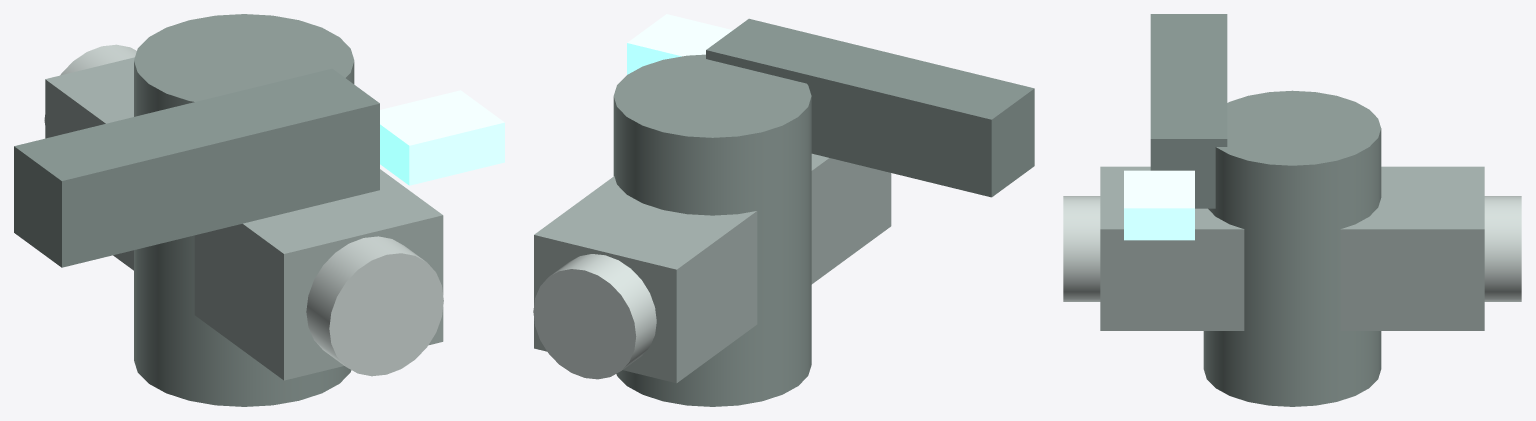
Rendered from front_right_knuckle.glb.
3 renders of one model, left to right at view 1: azimuth 30°, elevation 25°; view 2: azimuth 150°, elevation 25°; view 3: azimuth 270°, elevation 25°, orthographic. The views are drawn at different scales.
Parts seen in each view (by area): view 1: steering_arm, wheel_hub, upright, kingpin, angle_witness; view 2: wheel_hub, upright, steering_arm, kingpin, angle_witness; view 3: wheel_hub, upright, steering_arm, kingpin, angle_witness.
Part boxes in pixels (left/top/right/bottom): steering_arm: left=14, top=68, right=379, bottom=267; wheel_hub: left=134, top=14, right=354, bottom=406; upright: left=45, top=57, right=443, bottom=380; kingpin: left=44, top=44, right=443, bottom=376; angle_witness: left=380, top=90, right=504, bottom=185; wheel_hub: left=613, top=54, right=811, bottom=406; upright: left=534, top=153, right=891, bottom=383; steering_arm: left=706, top=18, right=1034, bottom=197; kingpin: left=533, top=254, right=656, bottom=379; angle_witness: left=627, top=14, right=732, bottom=74; wheel_hub: left=1203, top=90, right=1381, bottom=406; upright: left=1100, top=166, right=1484, bottom=330; steering_arm: left=1150, top=14, right=1227, bottom=208; kingpin: left=1063, top=196, right=1521, bottom=301; angle_witness: left=1124, top=170, right=1194, bottom=240.
Size of the model in its own units: 0.134 by 0.093 by 0.155.
